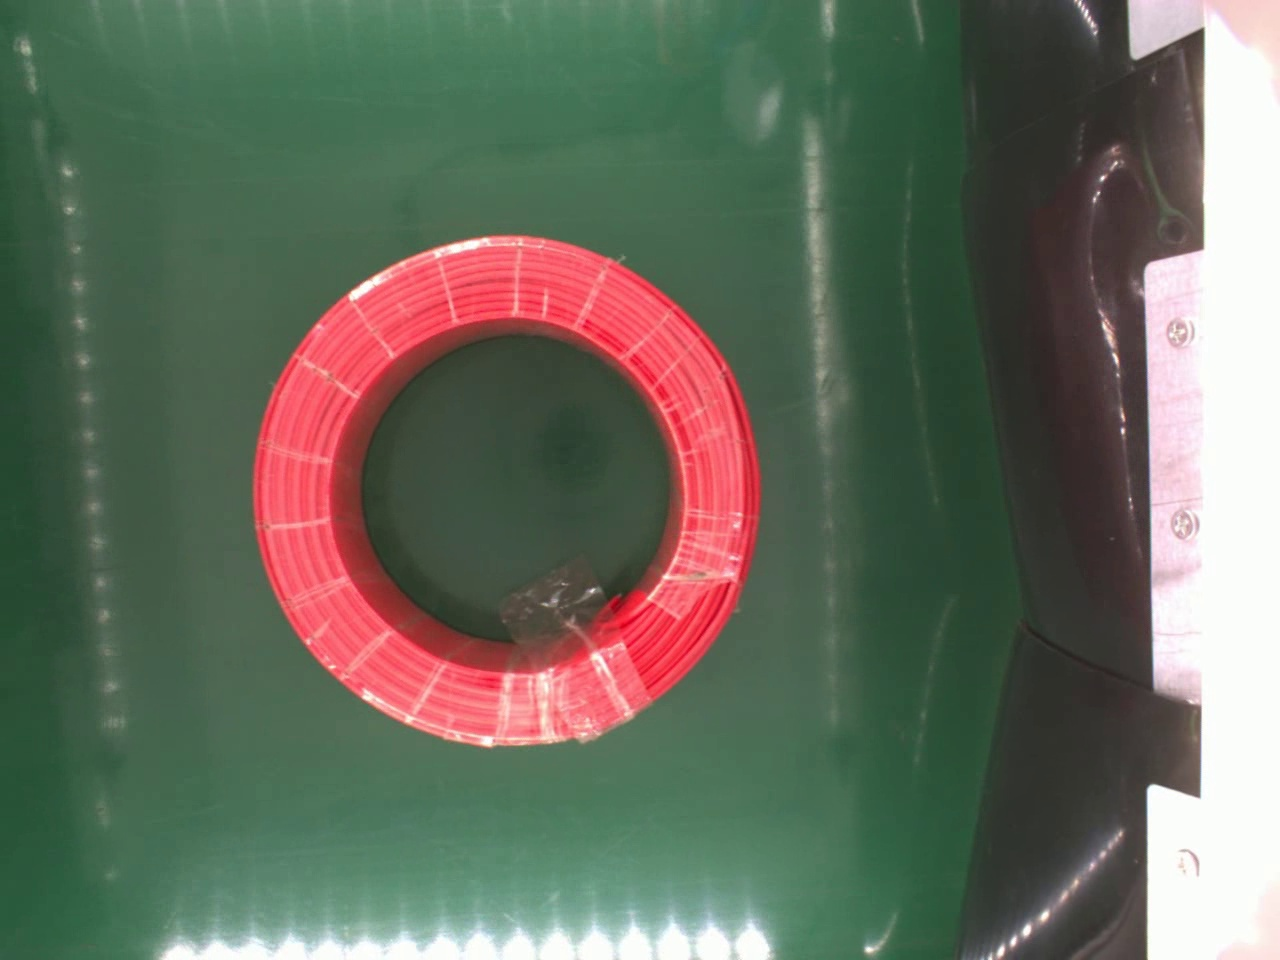red: (246, 236, 761, 751)
